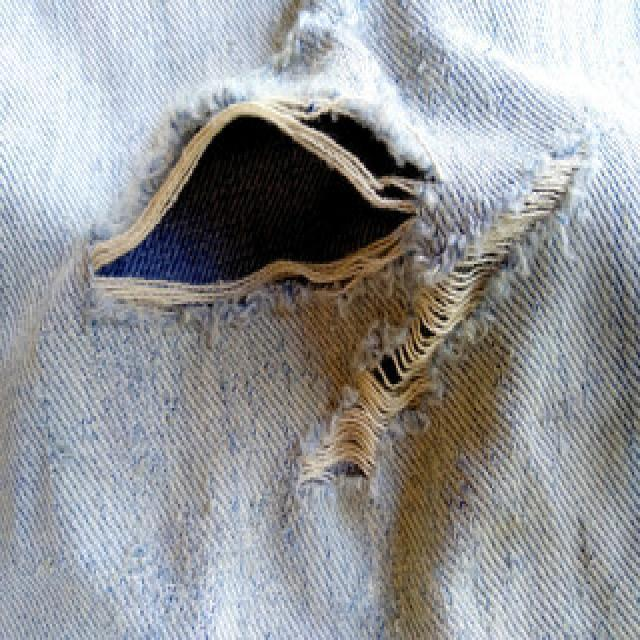Hole: (301, 153, 585, 485), (93, 100, 429, 306)
